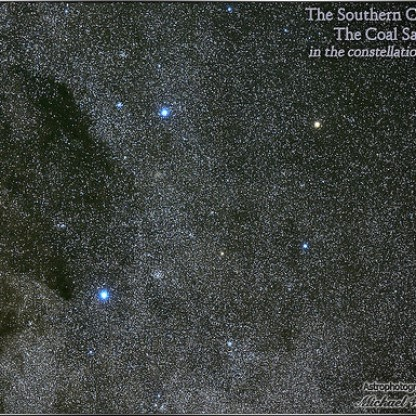Southern Cross: (94, 281, 116, 306), (310, 114, 332, 137), (152, 100, 171, 126), (297, 233, 313, 259)
